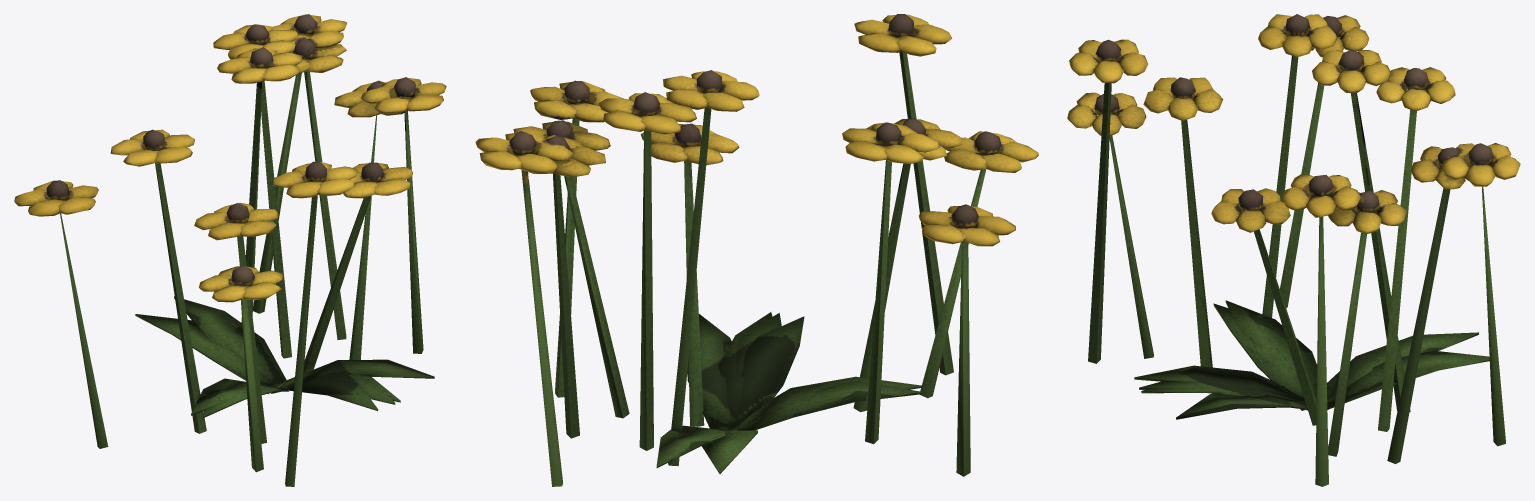
The model's file is costa_flores_b.glb.
3 renders of one model, left to right at view 1: azimuth 30°, elevation 25°; view 2: azimuth 150°, elevation 25°; view 3: azimuth 270°, elevation 25°, orthographic. The views are drawn at different scales.
Parts seen in each view (by area): view 1: costa_flores_b; view 2: costa_flores_b; view 3: costa_flores_b.
Part boxes in pixels (x1=…): costa_flores_b: x1=14, y1=14, x2=446, y2=486; costa_flores_b: x1=475, y1=14, x2=1038, y2=486; costa_flores_b: x1=1067, y1=14, x2=1520, y2=486.
Size of the model in its own units: 0.6215 by 0.4648 by 0.5319.
1 material, 1 textured.
